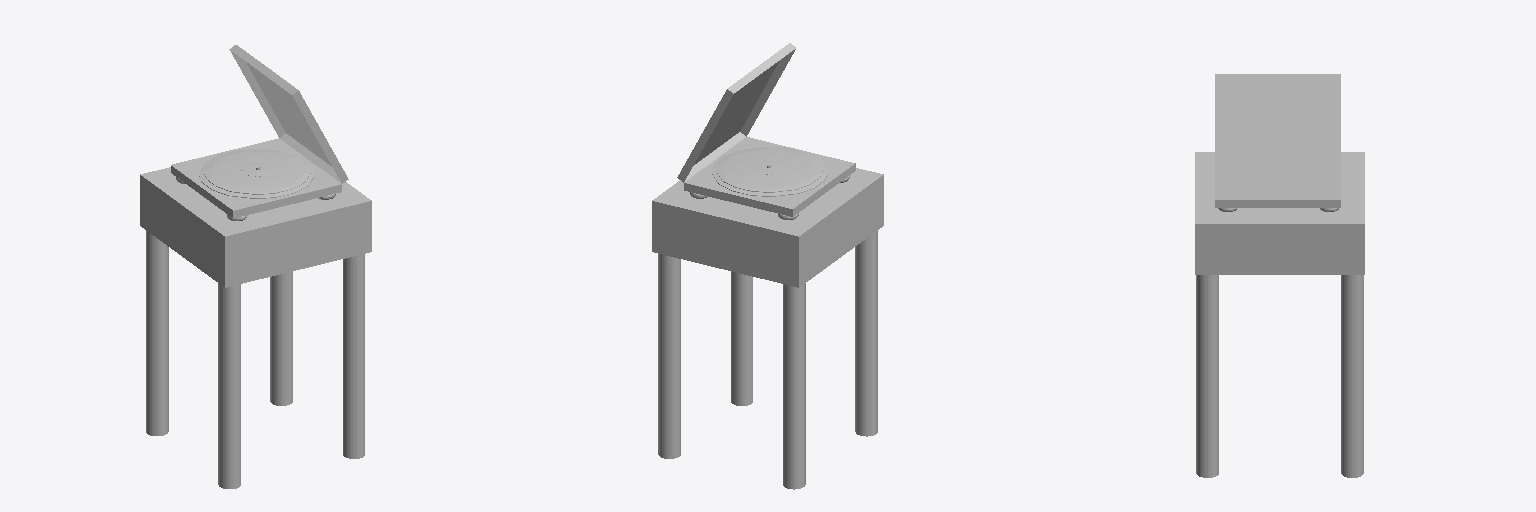
Rendered from desk.obj.
The picture shows the model from 3 angles: view 1: azimuth 30°, elevation 25°; view 2: azimuth 150°, elevation 25°; view 3: azimuth 270°, elevation 25°; orthographic projection.
Visible parts, largest first — view 1: Cube_Cube.001, Cube.002_Cube.005, Cylinder.002, Cylinder.003, Cylinder, Cube.001_Cube.004, Mball.002_Mesh.001, Cylinder.001, Mball.001_Mesh; view 2: Cube_Cube.001, Cube.002_Cube.005, Cylinder.003, Cylinder.001, Cylinder.002, Cube.001_Cube.004, Mball.002_Mesh.001, Cylinder, Mball.001_Mesh; view 3: Cube.002_Cube.005, Cube_Cube.001, Cylinder, Cylinder.001, Cube.001_Cube.004.
Part boxes in pixels (x1,y1,x2,y2): Cube_Cube.001: (140,167,371,287); Cube.002_Cube.005: (229,45,348,183); Cylinder.002: (218,283,240,488); Cylinder.003: (146,231,168,435); Cylinder: (343,254,364,458); Cube.001_Cube.004: (171,138,341,218); Mball.002_Mesh.001: (204,149,310,194); Cylinder.001: (270,271,292,405); Mball.001_Mesh: (199,151,314,198); Cube_Cube.001: (652,168,883,287); Cube.002_Cube.005: (677,43,795,182); Cylinder.003: (783,283,805,489); Cylinder.001: (658,254,680,458); Cylinder.002: (855,231,877,436); Cube.001_Cube.004: (684,137,855,216); Mball.002_Mesh.001: (716,147,822,192); Cylinder: (731,271,752,405); Mball.001_Mesh: (712,149,827,196); Cube.002_Cube.005: (1215,74,1340,199); Cube_Cube.001: (1195,152,1364,274); Cylinder: (1196,275,1218,477); Cylinder.001: (1341,275,1363,477); Cube.001_Cube.004: (1215,200,1340,207).
Size of the model in its own units: 0.6 by 1.46 by 0.6.